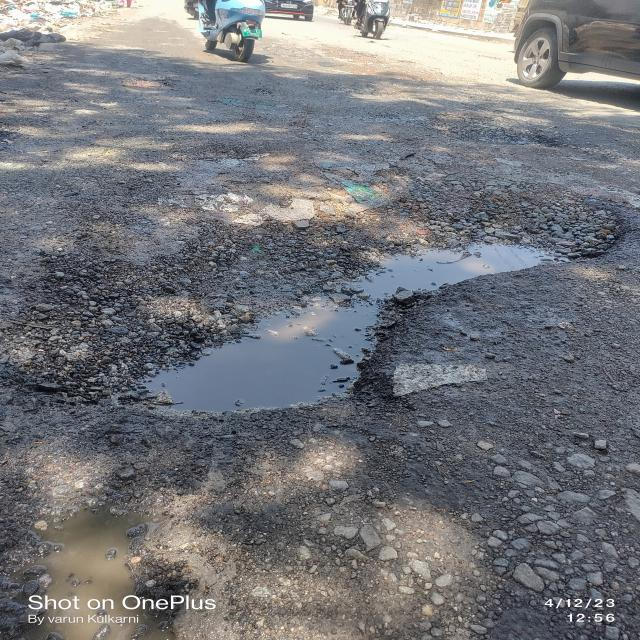Puddle pothole: (100, 200, 561, 417)
